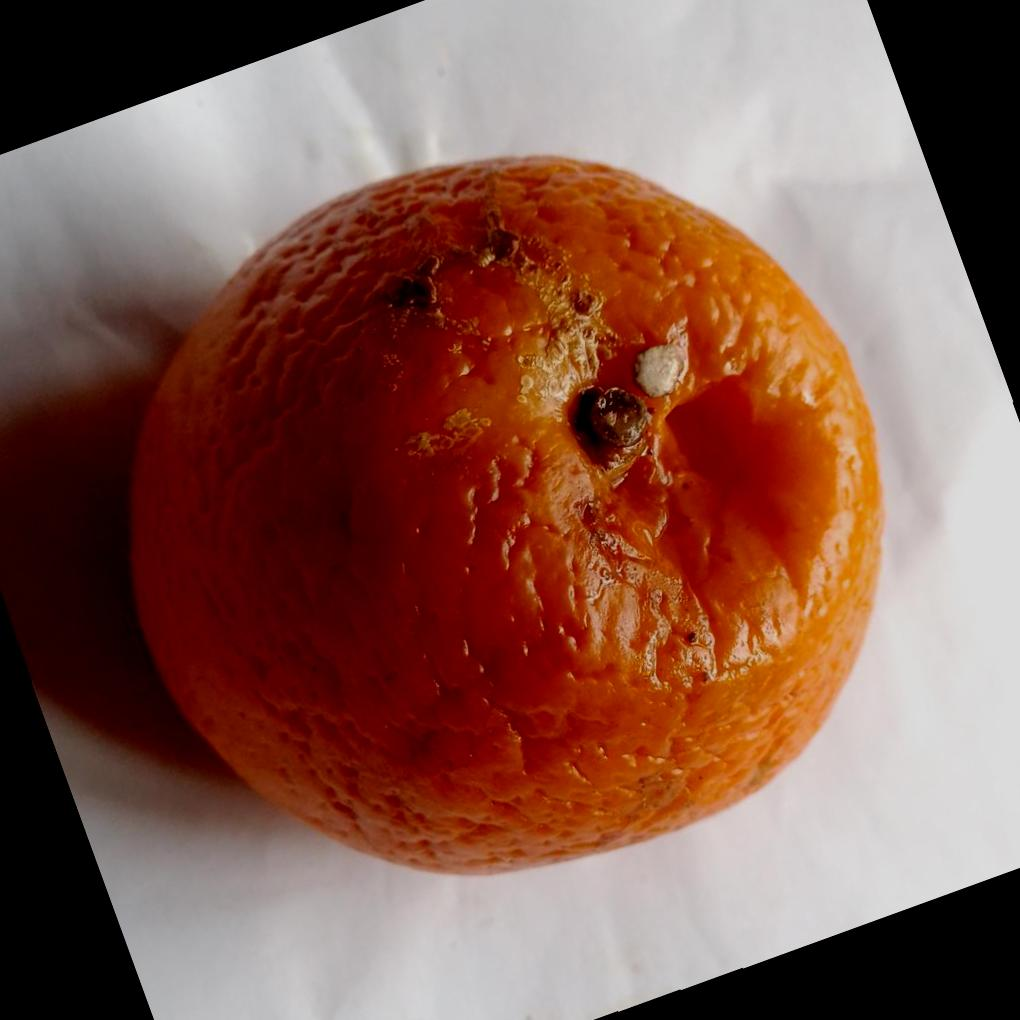FreshOrange: (124, 147, 884, 876)
